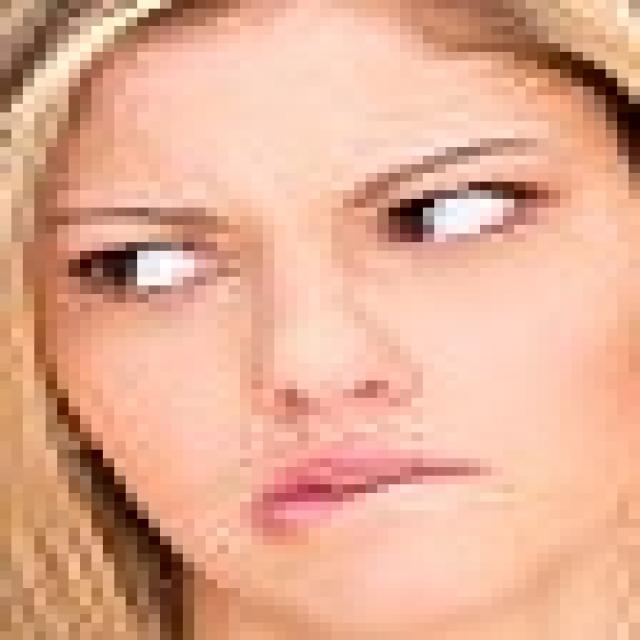Anxiety: (44, 0, 629, 620)
